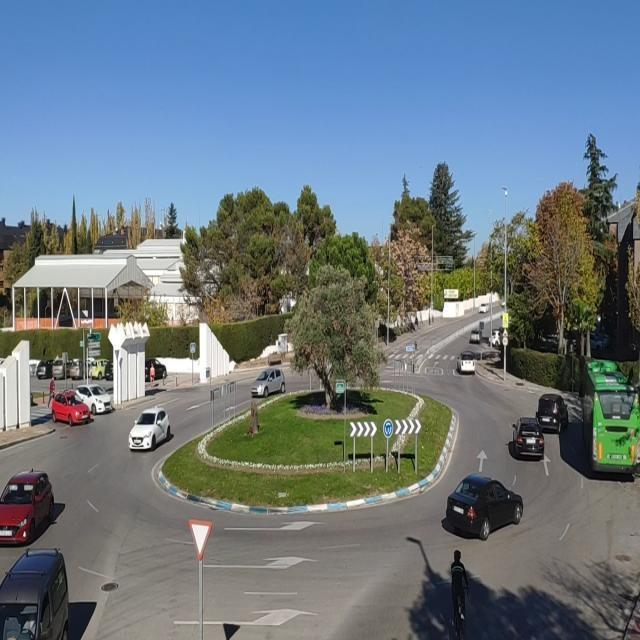Bus: (579, 358, 640, 478)
Car: (444, 472, 524, 540), (0, 470, 54, 547), (127, 408, 171, 450), (51, 390, 93, 425), (536, 394, 570, 433), (513, 418, 545, 458), (74, 384, 114, 415), (252, 368, 286, 398), (86, 359, 111, 380), (145, 359, 167, 381), (70, 358, 92, 380), (52, 359, 75, 380), (457, 352, 476, 374), (590, 331, 610, 351), (36, 360, 55, 379), (104, 358, 115, 381), (491, 330, 502, 348), (469, 329, 481, 343), (479, 303, 488, 313)
Cycle: (448, 581, 470, 640)
Van: (0, 547, 70, 640)
